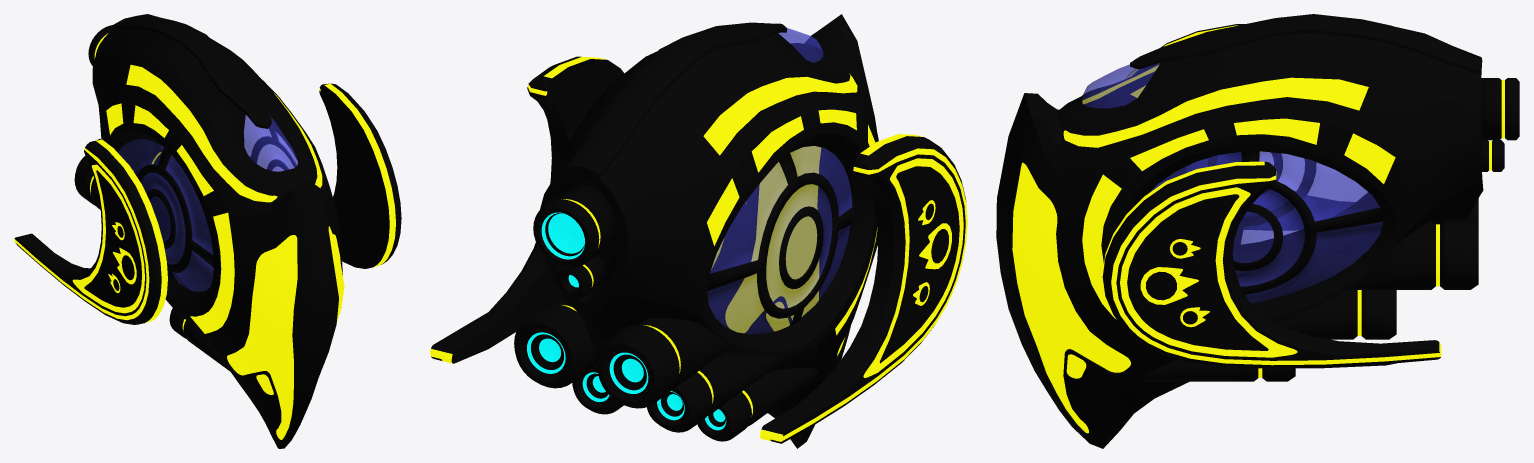
The model's file is Rhino_Test.fbx.
The picture shows the model from 3 angles, left to right: view 1: azimuth 30°, elevation 25°; view 2: azimuth 150°, elevation 25°; view 3: azimuth 270°, elevation 25°; orthographic projection. The views are drawn at different scales.
Parts seen in each view (by area): view 1: fusalage, Wing front right, Wing front left; view 2: fusalage, Wing front right, Wing front left; view 3: fusalage, Wing front left, Wing front right.
Part boxes in pixels (x1,y1,x2,y2): fusalage: (74,14,344,448); Wing front right: (14,138,167,324); Wing front left: (319,83,401,268); fusalage: (514,14,878,448); Wing front right: (760,134,967,443); Wing front left: (430,56,624,363); fusalage: (996,14,1519,448); Wing front left: (1102,161,1441,368); Wing front right: (1126,24,1355,230).
Bounding box in the file's own units: 1159 × 1531 × 1682.
